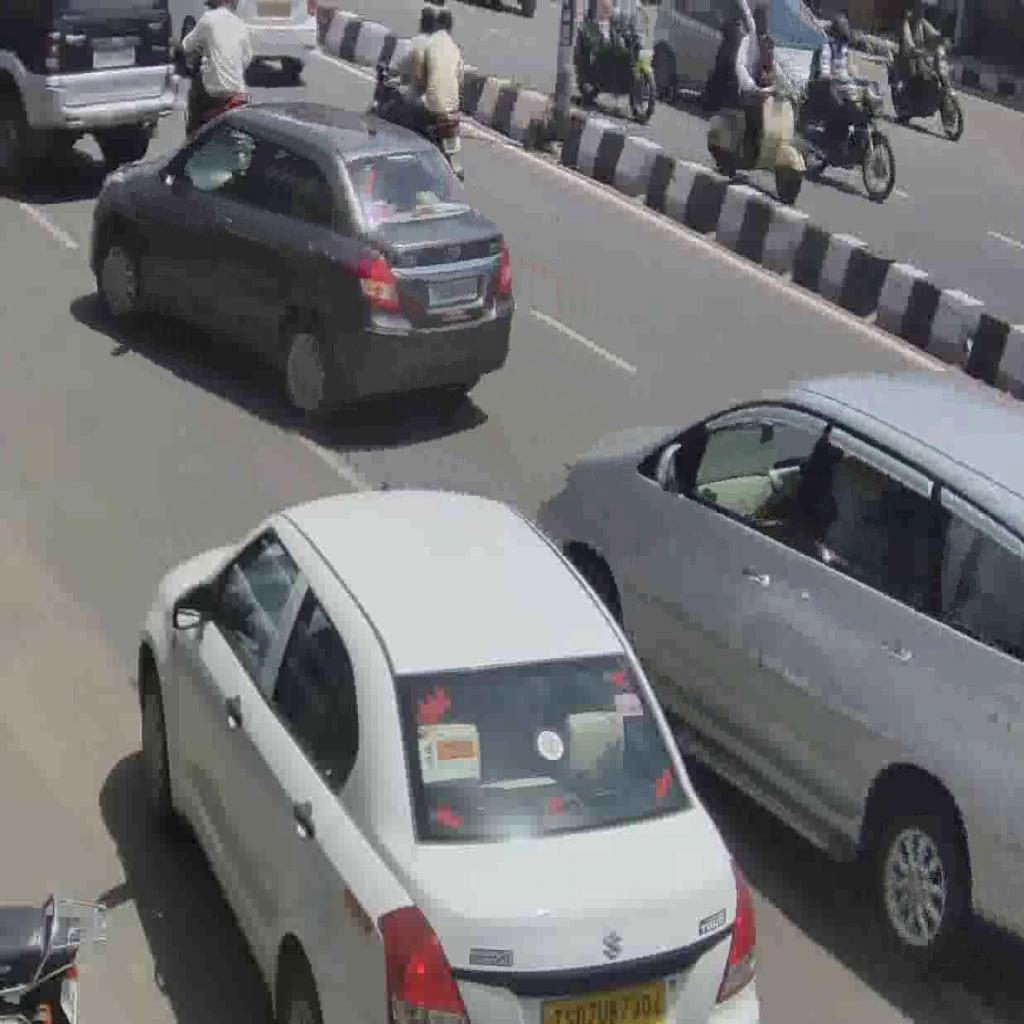bike: (363, 58, 465, 181), (708, 80, 806, 204), (800, 80, 896, 203), (575, 15, 654, 121), (885, 41, 964, 140)
helmet: (824, 14, 852, 45)
lisc: (440, 130, 460, 154)
no_helmet: (747, 2, 769, 34), (414, 5, 436, 36), (433, 8, 455, 33)
rider: (734, 2, 798, 150), (805, 13, 860, 164), (414, 6, 463, 128), (394, 4, 441, 116)
